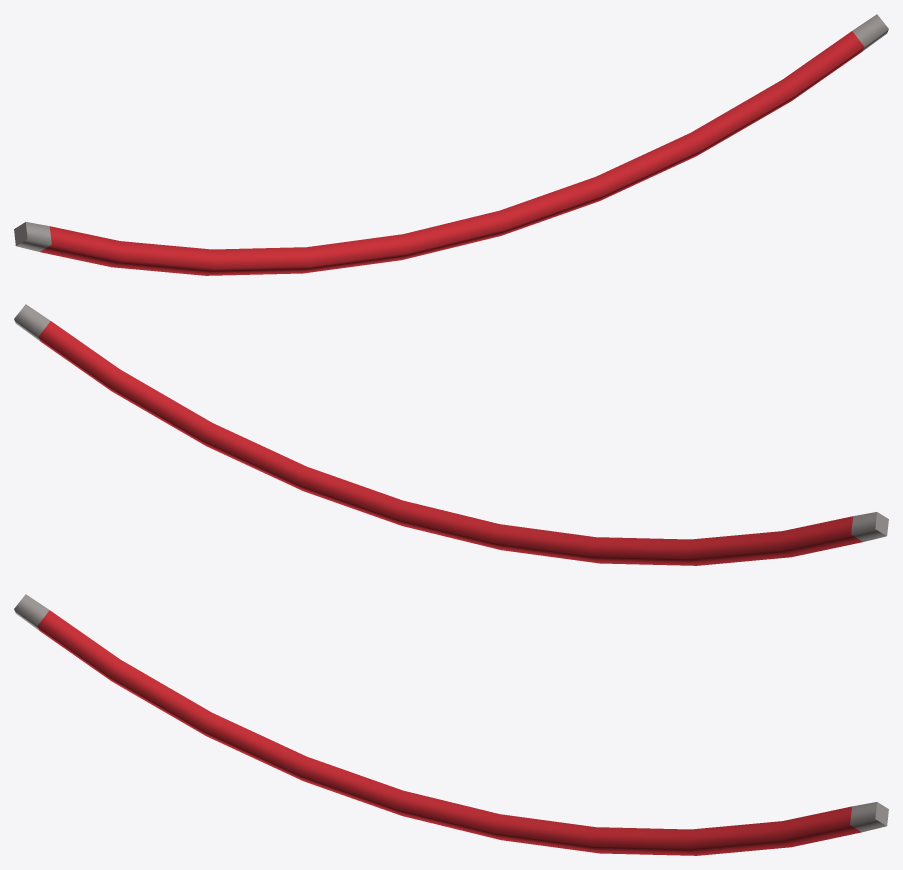
Rendered from fence-09.glb.
3 views of the same model, one above another, from view 1: azimuth 30°, elevation 25°; view 2: azimuth 150°, elevation 25°; view 3: azimuth 330°, elevation 25° (orthographic).
Visible parts, largest first — view 1: Fence_09; view 2: Fence_09; view 3: Fence_09.
Part boxes in pixels (x1,y1,x2,y2): Fence_09: (14, 14, 888, 275); Fence_09: (14, 304, 888, 565); Fence_09: (14, 594, 888, 855).
Bounding box in the file's own units: 1.92 × 0.2738 × 0.0549.
Materials: 1 (1 with a texture image).
